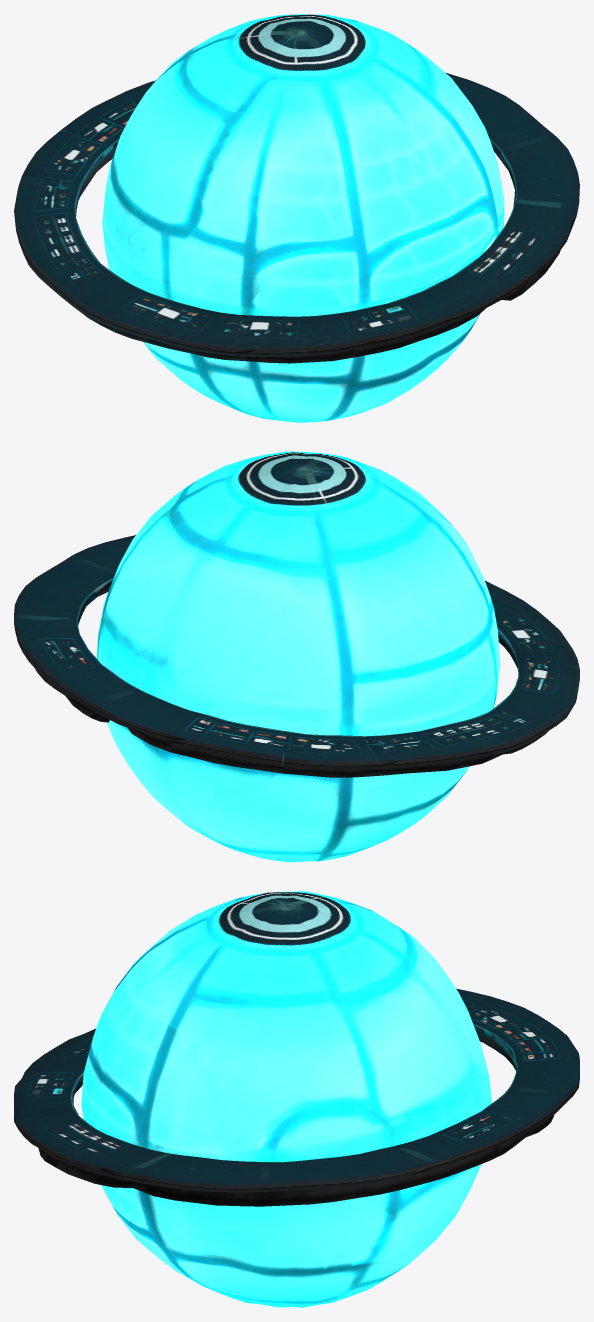
File: Meshy_AI_model.glb
3 renders of one model, top to bottom at view 1: azimuth 30°, elevation 25°; view 2: azimuth 150°, elevation 25°; view 3: azimuth 270°, elevation 25°, orthographic.
Visible parts, largest first — view 1: mesh_node; view 2: mesh_node; view 3: mesh_node.
Boxes of the visible parts, <box> form: mesh_node: <box>14,14,579,422</box>; mesh_node: <box>14,451,579,862</box>; mesh_node: <box>14,891,579,1307</box>.
Size of the model in its own units: 1 by 0.7402 by 1.
1 material, 1 textured.
